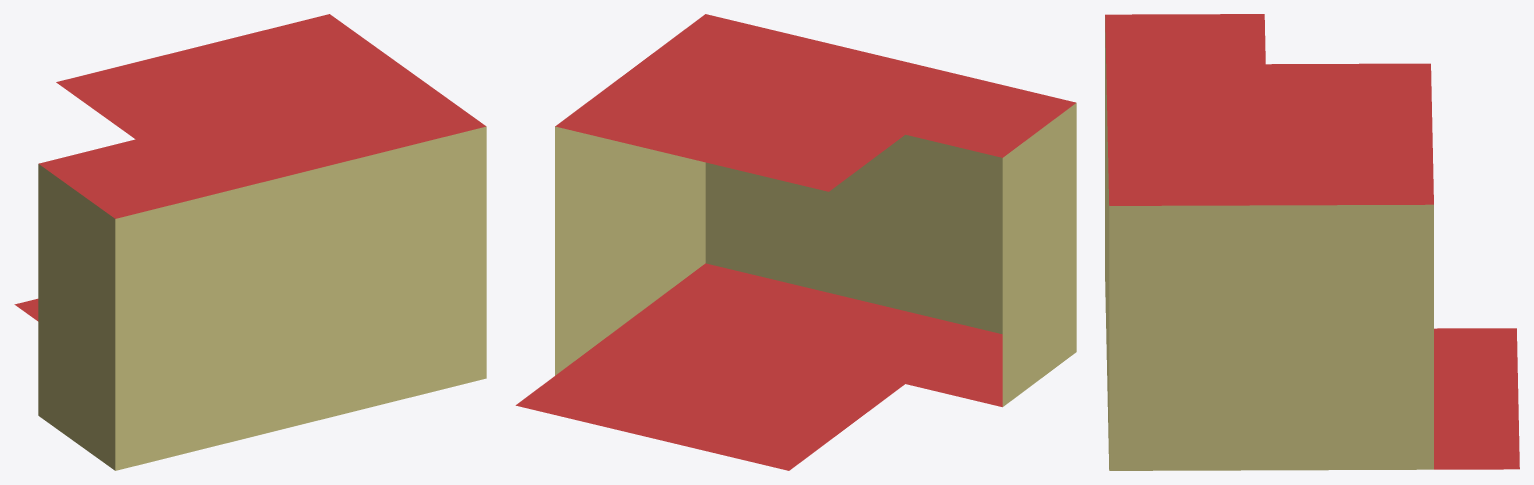
3 views of the same model, side by side, from view 1: azimuth 30°, elevation 25°; view 2: azimuth 150°, elevation 25°; view 3: azimuth 270°, elevation 25° (orthographic). The views are drawn at different scales.
Bounding box in the file's own units: 8.36 × 7.63 × 5.38.
